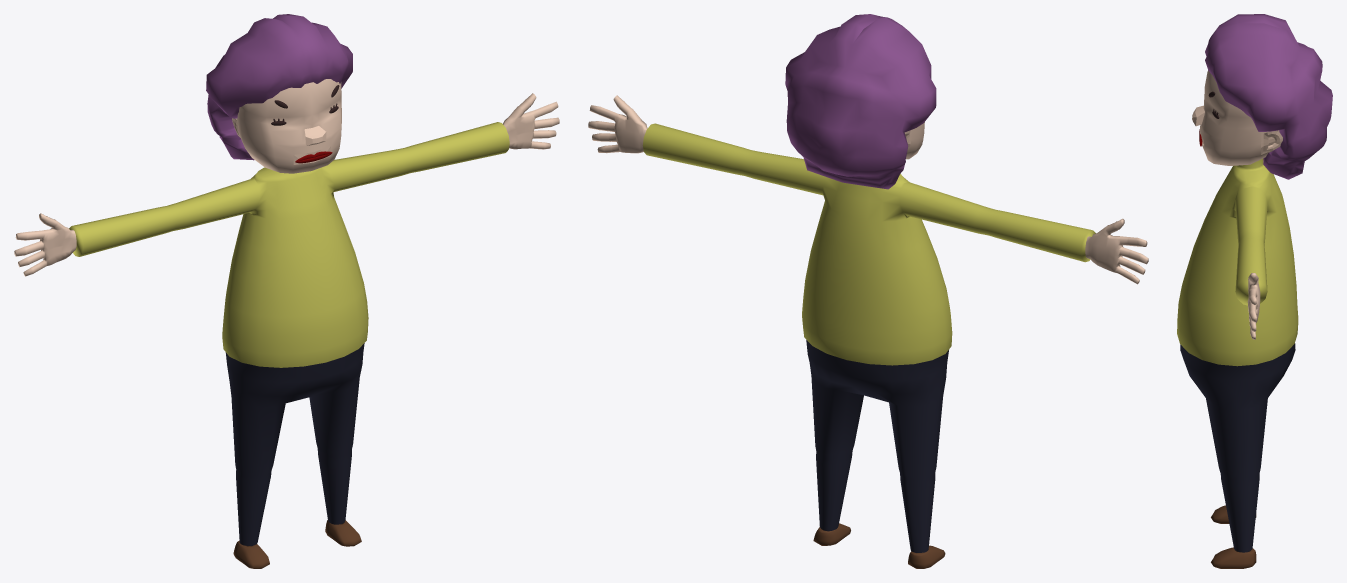
The model's file is obachan.fbx.
The picture shows the model from 3 angles, left to right: view 1: azimuth 30°, elevation 25°; view 2: azimuth 150°, elevation 25°; view 3: azimuth 270°, elevation 25°; orthographic projection. The views are drawn at different scales.
Parts seen in each view (by area): view 1: polySurface5; view 2: polySurface5; view 3: polySurface5.
Boxes of the visible parts, box(x1,y1,x2,y2) form: polySurface5: box(14, 14, 559, 568); polySurface5: box(588, 14, 1148, 568); polySurface5: box(1177, 14, 1332, 568).
Bounding box in the file's own units: 64.84 × 59.56 × 16.09.
